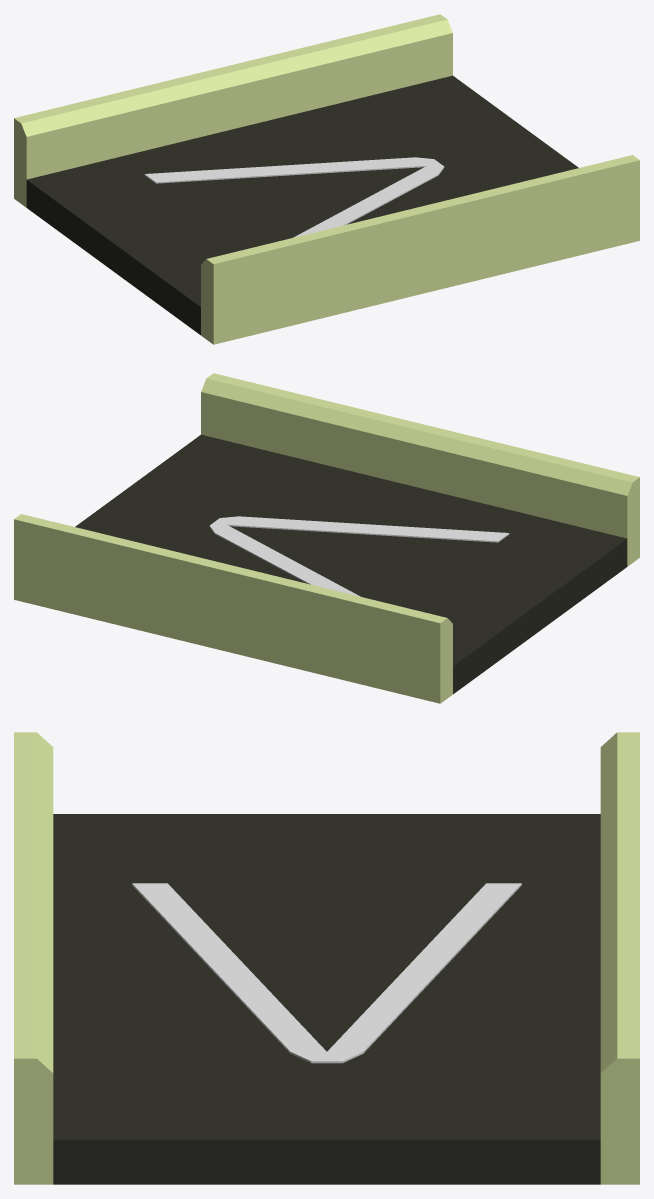
File: beltconbeyor.glb
The picture shows the model from 3 angles, top to bottom: view 1: azimuth 30°, elevation 25°; view 2: azimuth 150°, elevation 25°; view 3: azimuth 270°, elevation 25°; orthographic projection. The views are drawn at different scales.
Visible parts, largest first — view 1: 立方体, 立方体.001; view 2: 立方体, 立方体.001; view 3: 立方体, 立方体.001.
Part boxes in pixels (x1,y1,x2,y2): 立方体: (14,14,639,344); 立方体.001: (144,157,444,237); 立方体: (14,373,639,703); 立方体.001: (209,516,509,596); 立方体: (14,732,639,1184); 立方体.001: (132,883,521,1063).
Size of the model in its own units: 100 by 18.04 by 81.1.
